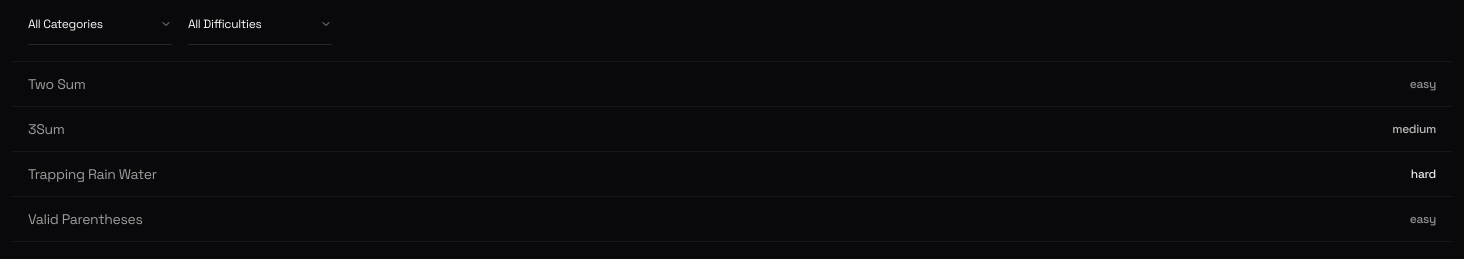
ProblemSelector › filters by difficulty
Click the dropdown labelled "All Difficulties": (260, 30) [188, 16, 332, 45]
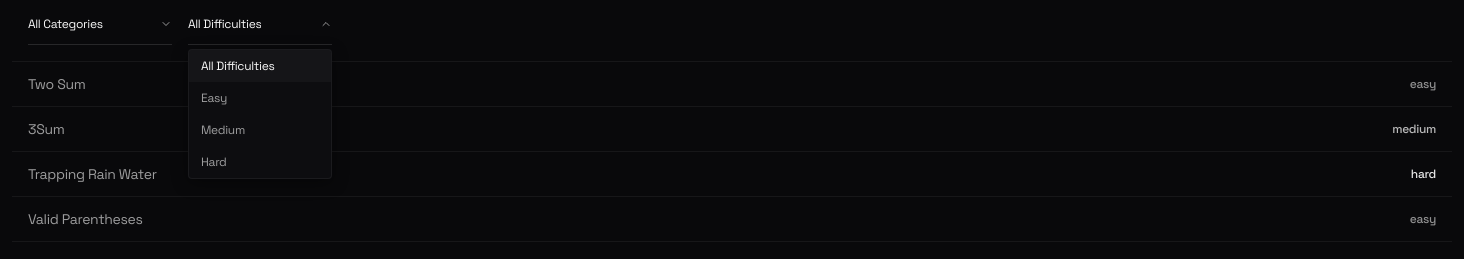
Click the option "Easy": (214, 98) [201, 90, 227, 106]
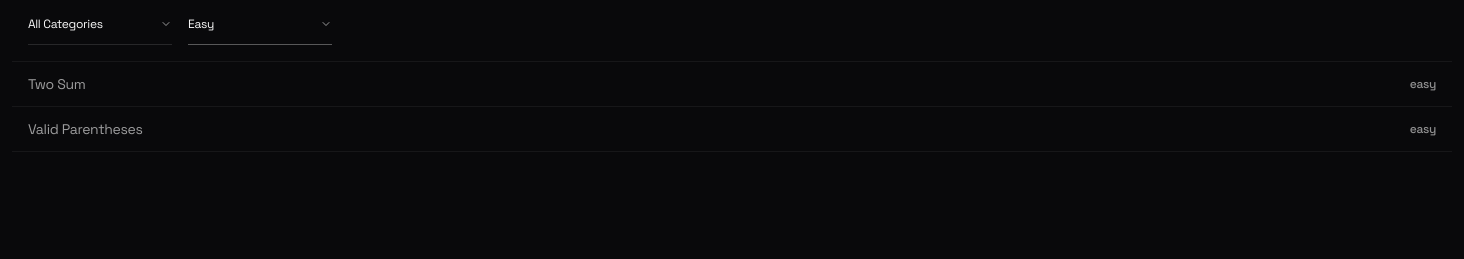
Expected: the text "Two Sum" is shown, [28, 74, 85, 94]
Result: the button "3Sum" is gone
